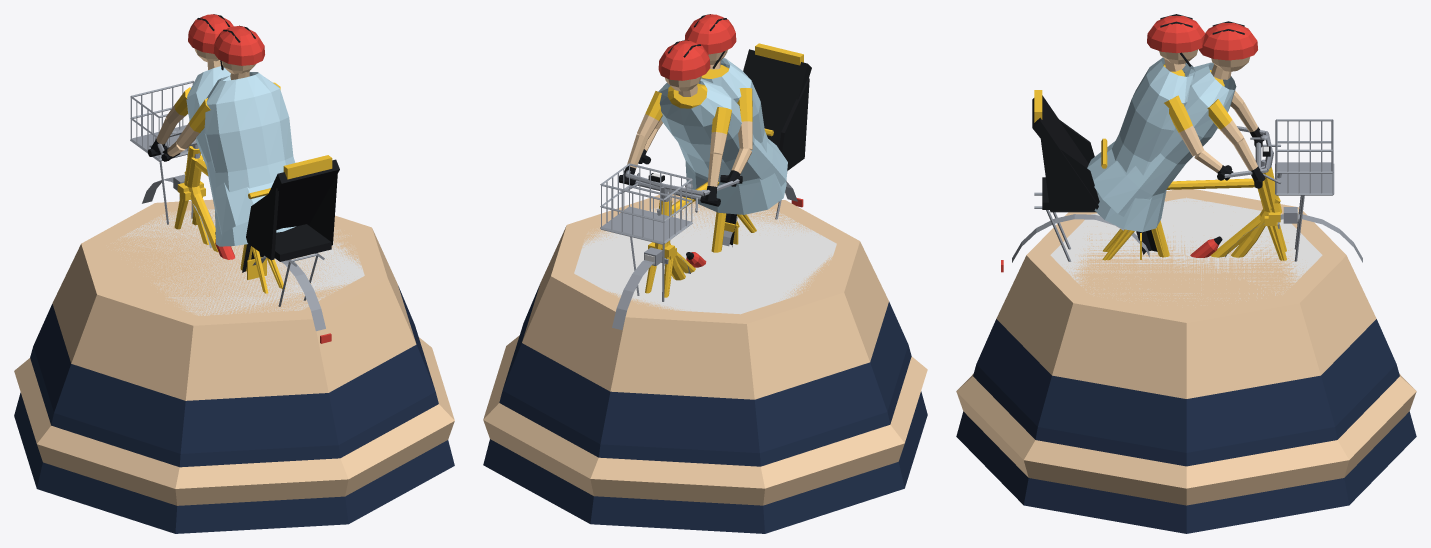
Rendered from bicycle.glb.
The picture shows the model from 3 angles, left to right: view 1: azimuth 30°, elevation 25°; view 2: azimuth 150°, elevation 25°; view 3: azimuth 270°, elevation 25°; orthographic projection.
Visible parts, largest first — view 1: BK_Thigh, BK_Shin, BK_PonchoUp, BK_FrameEbike, BK_FrameCity, BK_Poncho, BK_RiderUp, BK_Rider, BK_Frame; view 2: BK_Thigh, BK_Shin, BK_FrameCity, BK_FrameEbike, BK_Poncho, BK_Rider, BK_PonchoUp, BK_RiderUp, BK_Frame; view 3: BK_Thigh, BK_Shin, BK_FrameCity, BK_PonchoUp, BK_Poncho, BK_FrameEbike, BK_Rider, BK_RiderUp, BK_Frame.
Part boxes in pixels (x1,y1,x2,y2): BK_Thigh: (14,199,454,533); BK_Shin: (14,209,454,505); BK_PonchoUp: (204,72,295,246); BK_FrameEbike: (242,155,339,279); BK_FrameCity: (130,80,331,343); BK_Poncho: (186,66,273,234); BK_RiderUp: (162,25,280,160); BK_Rider: (151,14,233,154); BK_Frame: (147,140,285,293); BK_Thigh: (483,194,927,533); BK_Shin: (483,203,927,505); BK_FrameCity: (600,154,803,329); BK_FrameEbike: (648,43,811,246); BK_Poncho: (658,78,787,186); BK_Rider: (621,40,731,201); BK_PonchoUp: (685,58,786,214); BK_RiderUp: (638,14,752,186); BK_Frame: (619,175,756,296); BK_Thigh: (956,189,1416,533); BK_Shin: (956,197,1416,505); BK_FrameCity: (1001,119,1362,272); BK_PonchoUp: (1094,57,1195,232); BK_Poncho: (1087,62,1236,216); BK_FrameEbike: (1032,90,1270,259); BK_Rider: (1199,21,1265,181); BK_RiderUp: (1147,14,1233,180); BK_Frame: (1102,139,1282,260).
Size of the model in its own units: 2.3 by 2.31 by 2.3.
